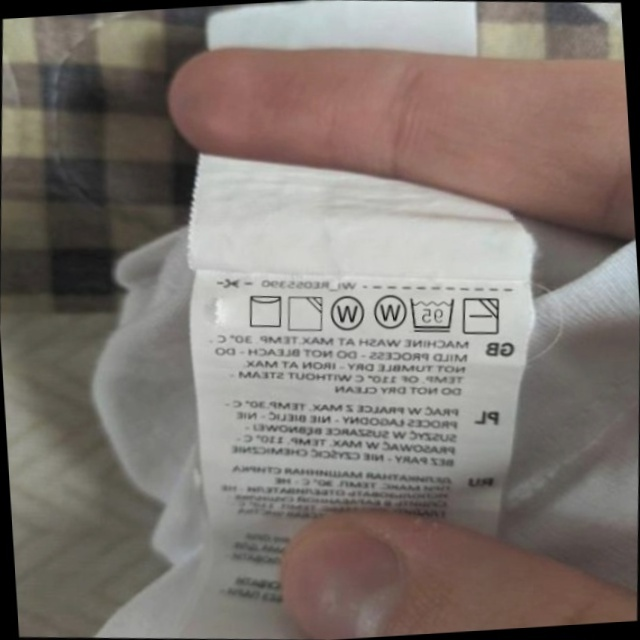95C: (405, 292, 459, 336)
dry_flat_in_shade: (459, 292, 504, 339)
line_dry: (243, 289, 287, 332)
shade_dry: (283, 291, 327, 335)
wet_clean: (326, 292, 368, 336), (368, 288, 409, 333)
